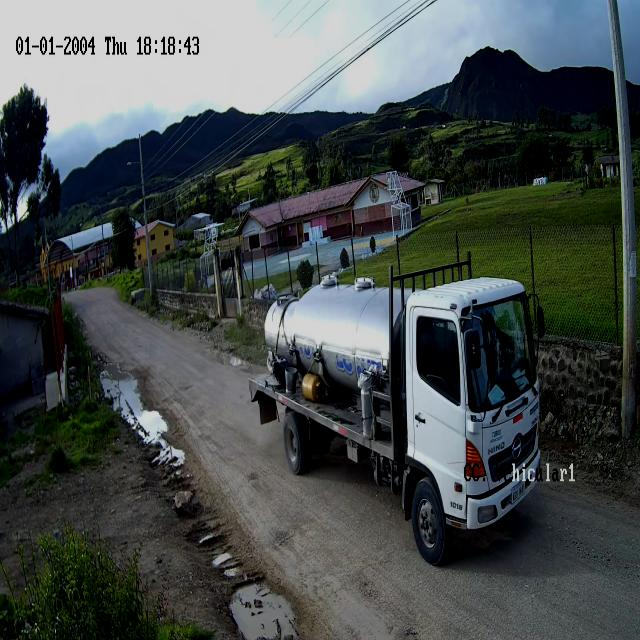TRUCK: (254, 274, 541, 566)
